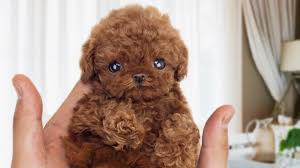Bulldog: (61, 1, 210, 168)
